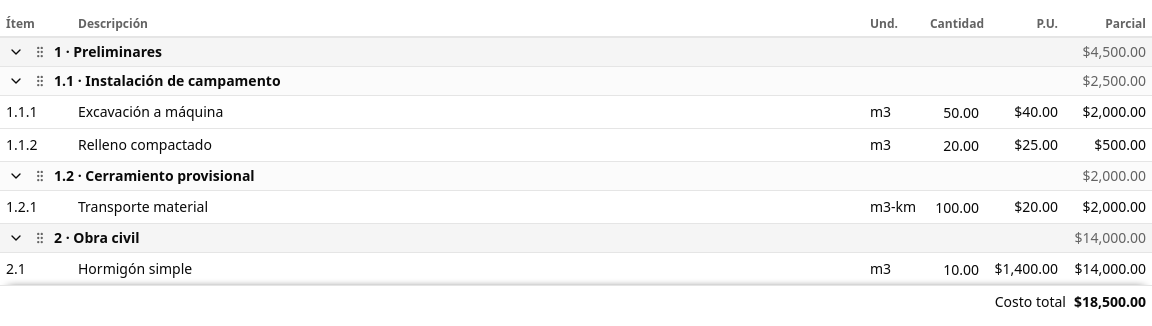
Test: PresupuestoCompacto › hides and reveals descendants on chapter expansion
What coordinates should you click on to do the following:
click the button named "Contraer Instalación de campamento"
I would click on:
 (16, 81)
Its box is [6,71,26,91].
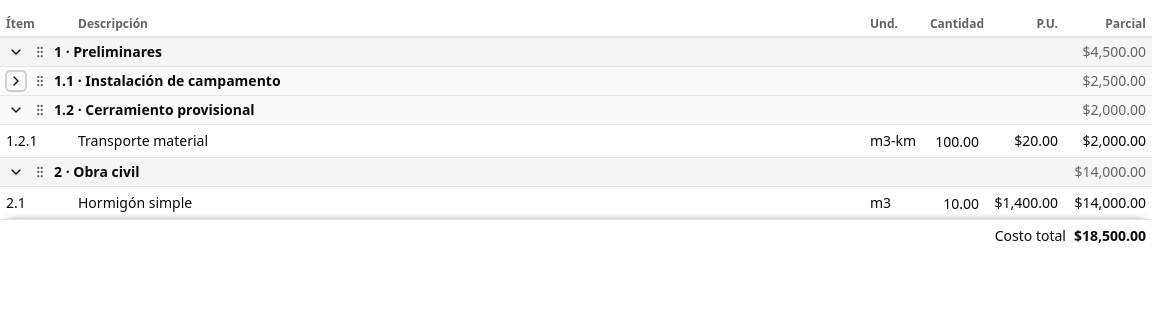
Expected: the text "Excavación a máquina" is gone
What coordinates should you click on to do the following:
click the button named "Expandir Instalación de campamento"
I would click on:
 (16, 81)
Its box is [6,71,26,91].
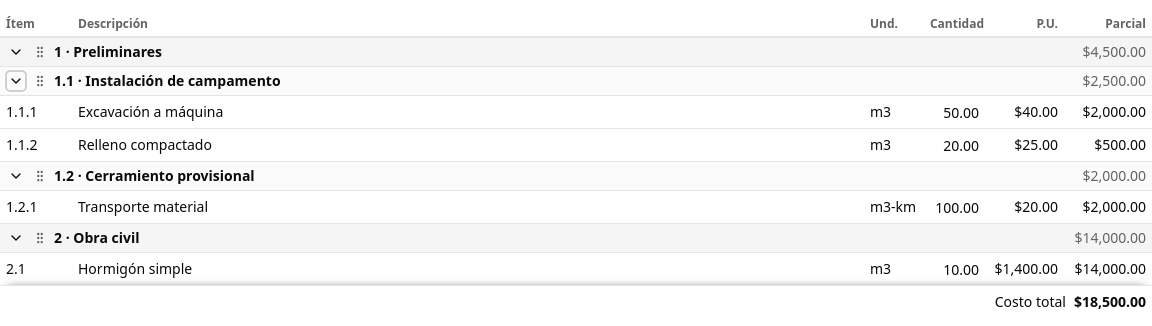
Expected: the text "Excavación a máquina" is shown, [72,96,864,128]
